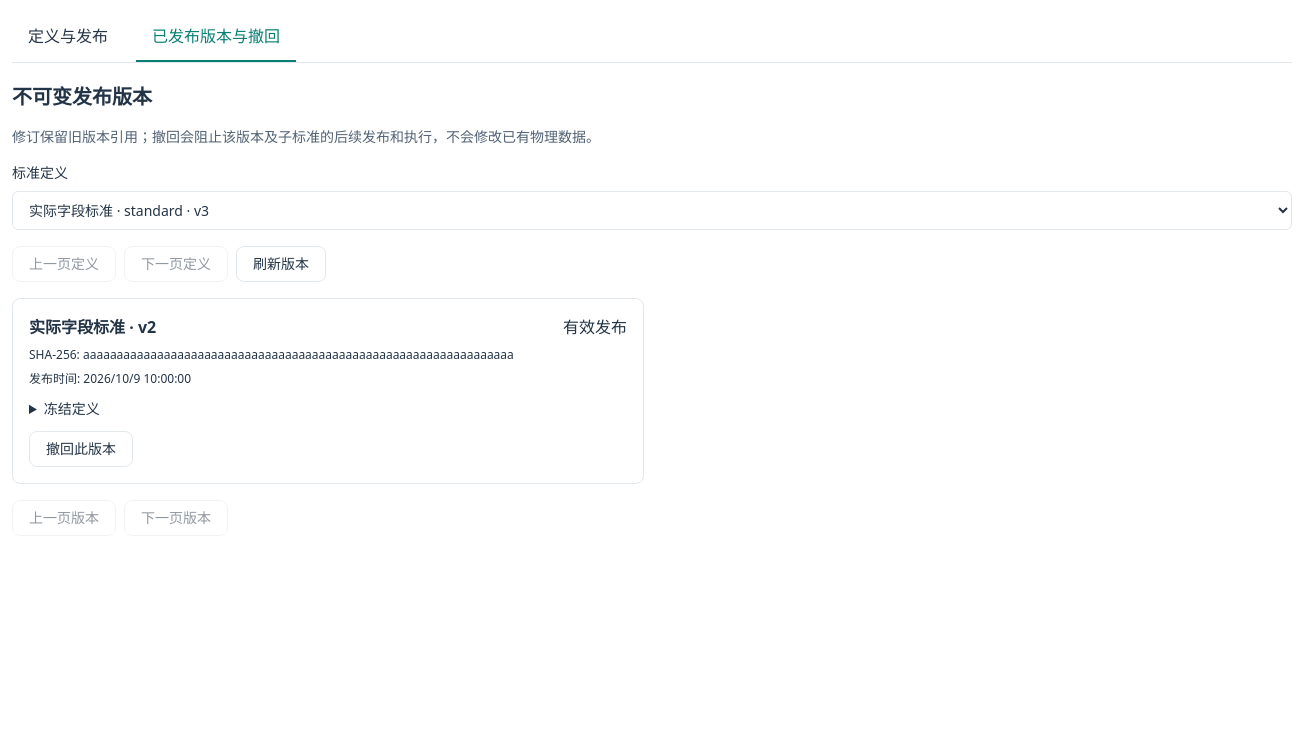
Scenario: Immutable standard publication revisions › hides previously read revision evidence immediately after permission denial
Expected: the heading "实际字段标准 · v2" is shown, [29,315,156,339]
Click the button "刷新版本".
click(281, 264)  # box [236,246,326,282]
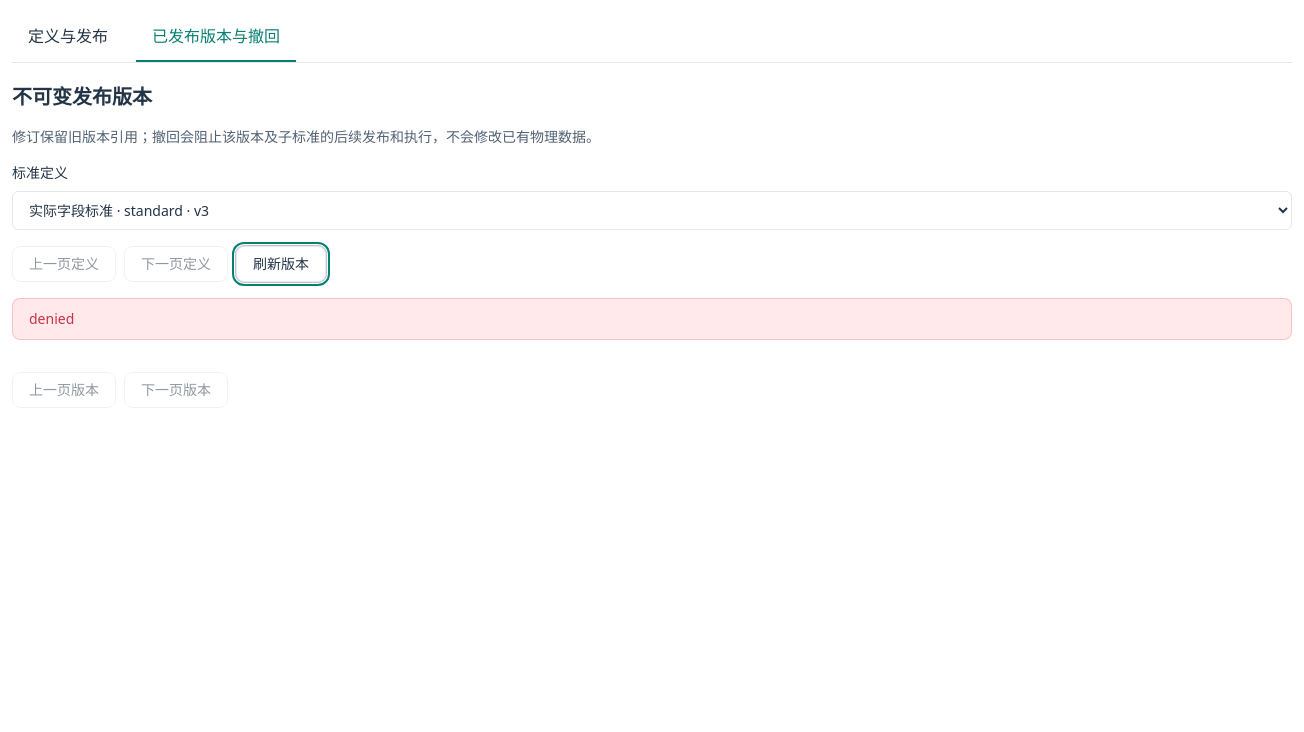
Now the heading "实际字段标准 · v2" is gone
Now the button "撤回此版本" is gone
